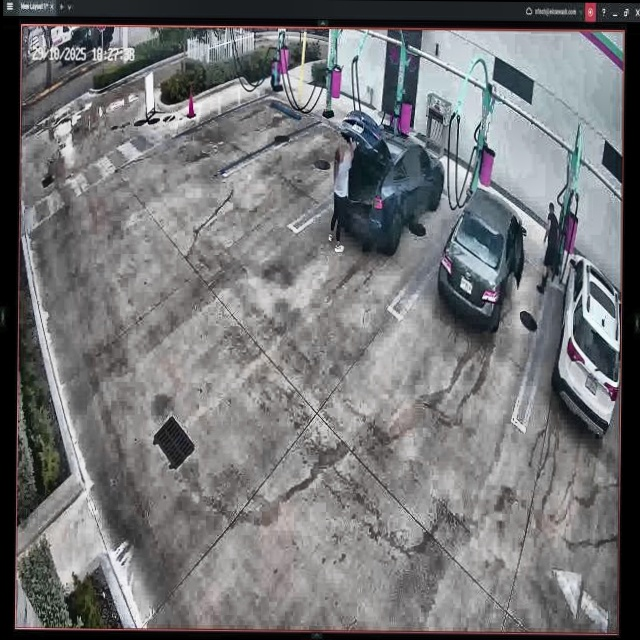Car: (340, 110, 444, 248), (439, 187, 526, 330)
